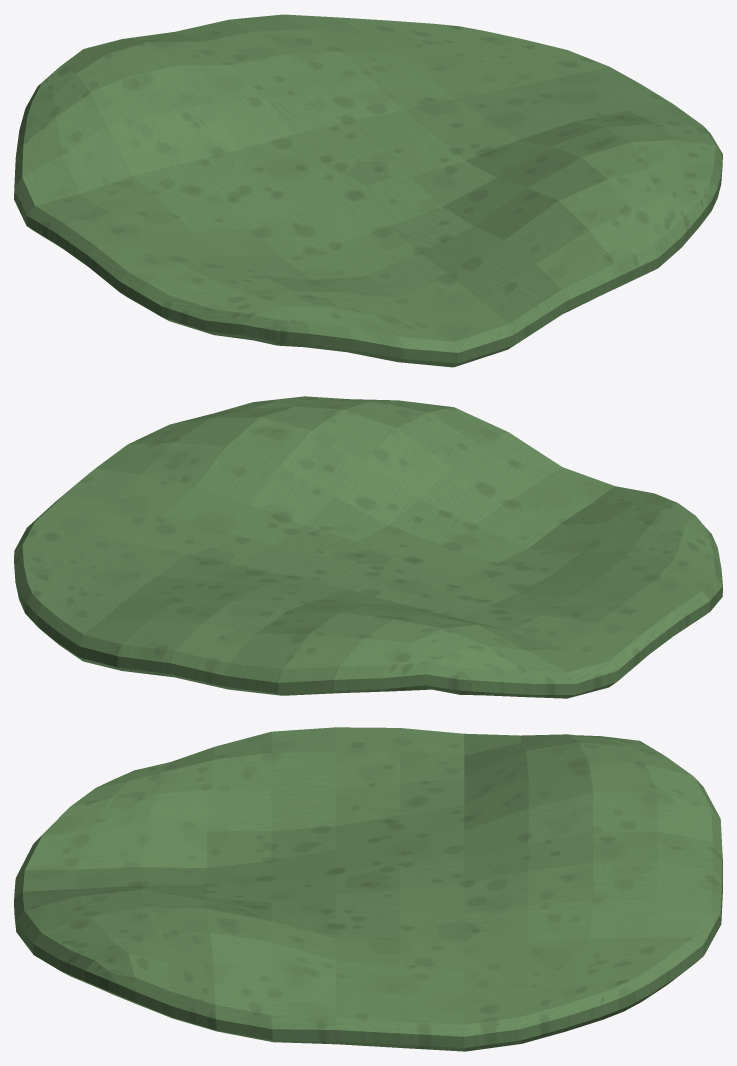
Rendered from Grass2.fbx.
3 renders of one model, top to bottom at view 1: azimuth 30°, elevation 25°; view 2: azimuth 150°, elevation 25°; view 3: azimuth 270°, elevation 25°, orthographic. The views are drawn at different scales.
Visible parts, largest first — view 1: grass2; view 2: grass2; view 3: grass2.
Boxes of the visible parts, x1,y1,x2,y2 form: grass2: (14,14,722,367); grass2: (14,396,722,698); grass2: (14,727,722,1051).
Bounding box in the file's own units: 3000 × 509 × 3002.
